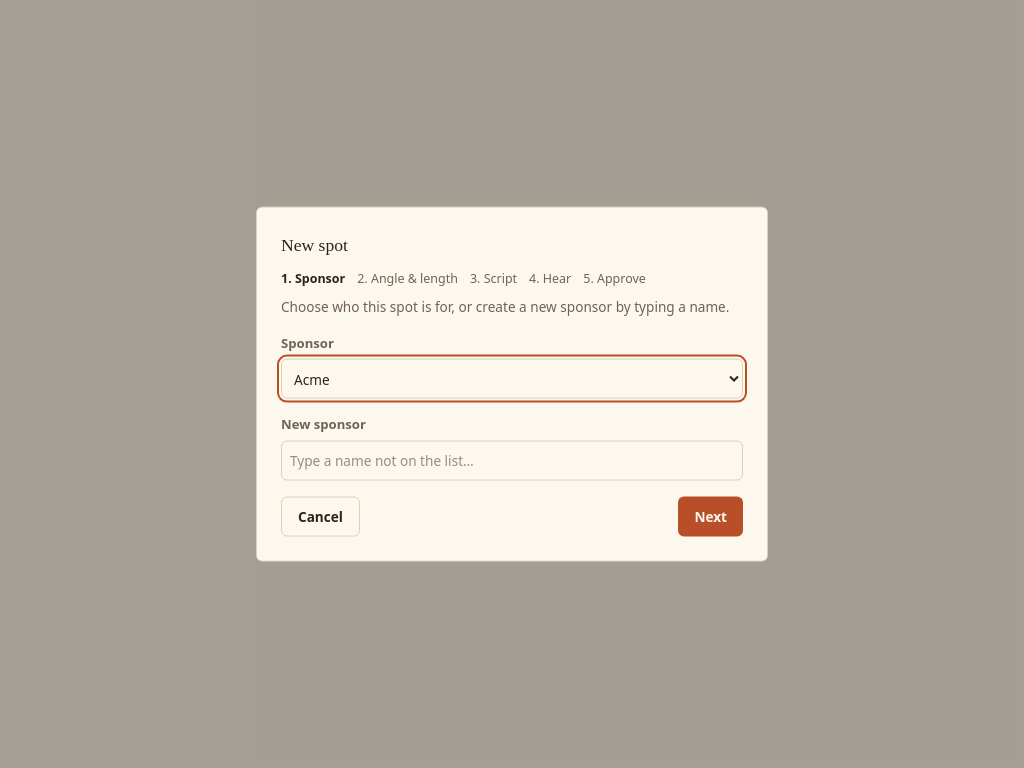
Test: Feature: New spot is a five-step wizard › Scenario: every step names its purpose in a sentence › each step carries exactly one purpose sentence — AC2
Expected: the text "Choose who this spot is for, or create a new sponsor by typing a name." is shown, [281,297,743,317]
Expected: the list item "1. Sponsor" is shown, [281,270,345,289]
Click the button "Next" at (711, 516), box [678,496,743,536]
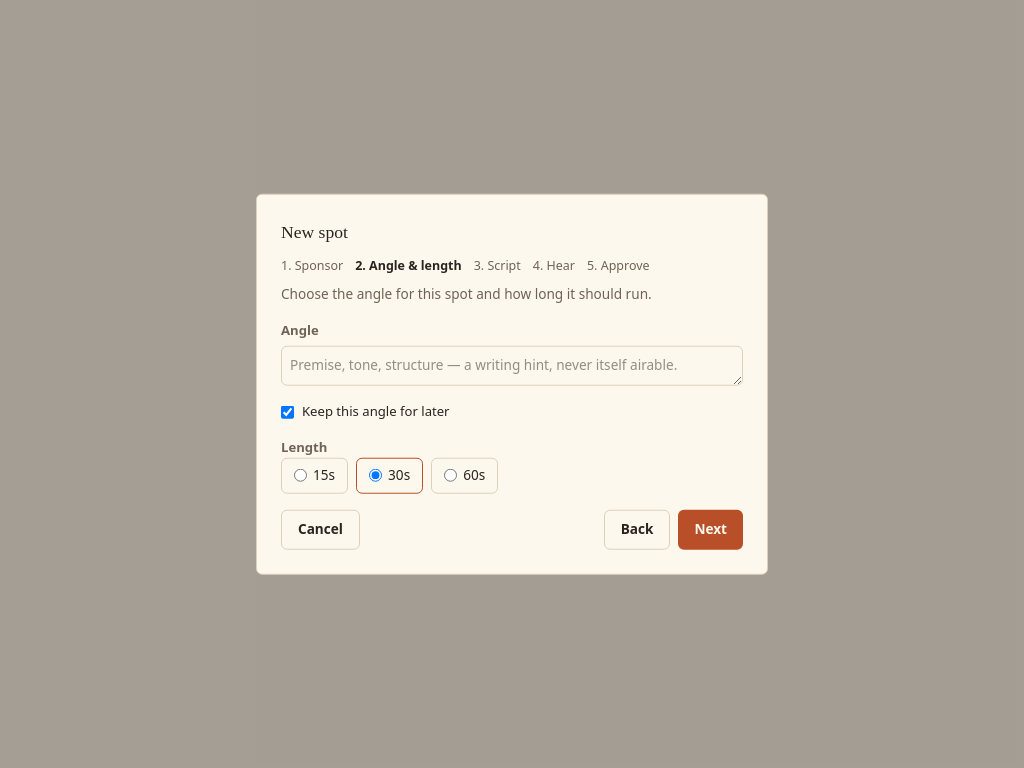
Expected: the list item "2. Angle & length" is shown, [355,257,462,276]
Result: the text "Choose the angle for this spot and how long it should run." is shown at [281,284,652,303]
Replace the text in the text box labelled "Angle" with "A walkthrough angle." at (512, 366), box [281,346,743,386]
Click the checkbox labelled "Keep this angle for later" at (288, 412), box [281,405,294,418]
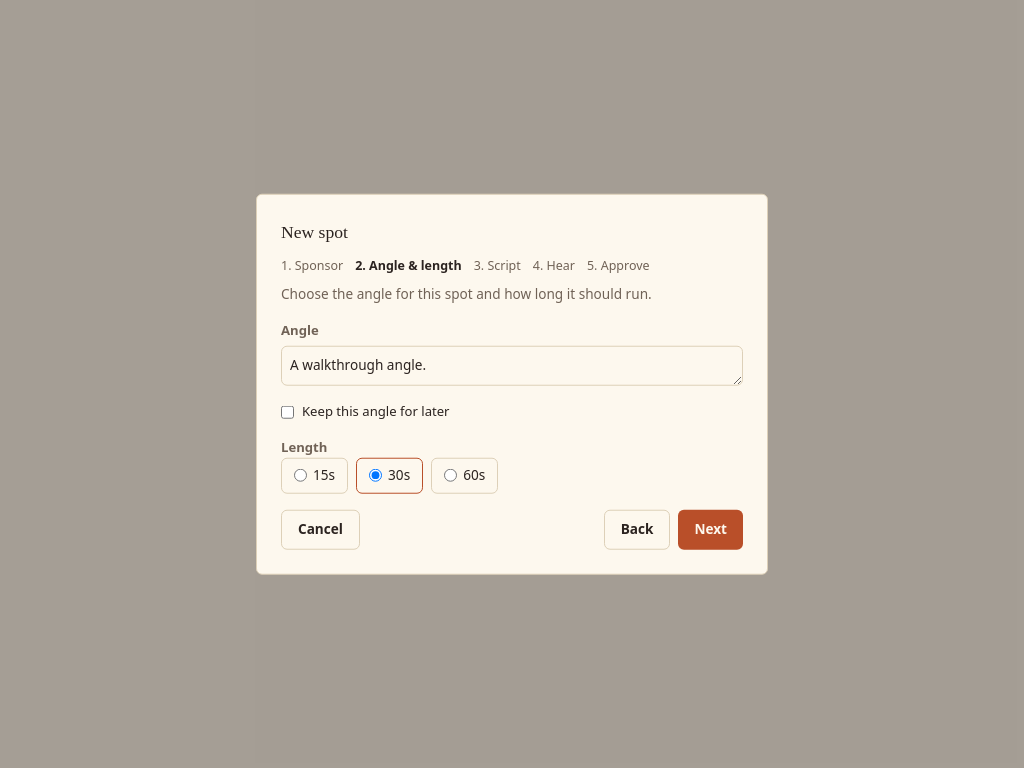
Click the button "Next" at (711, 529), box [678,509,743,549]
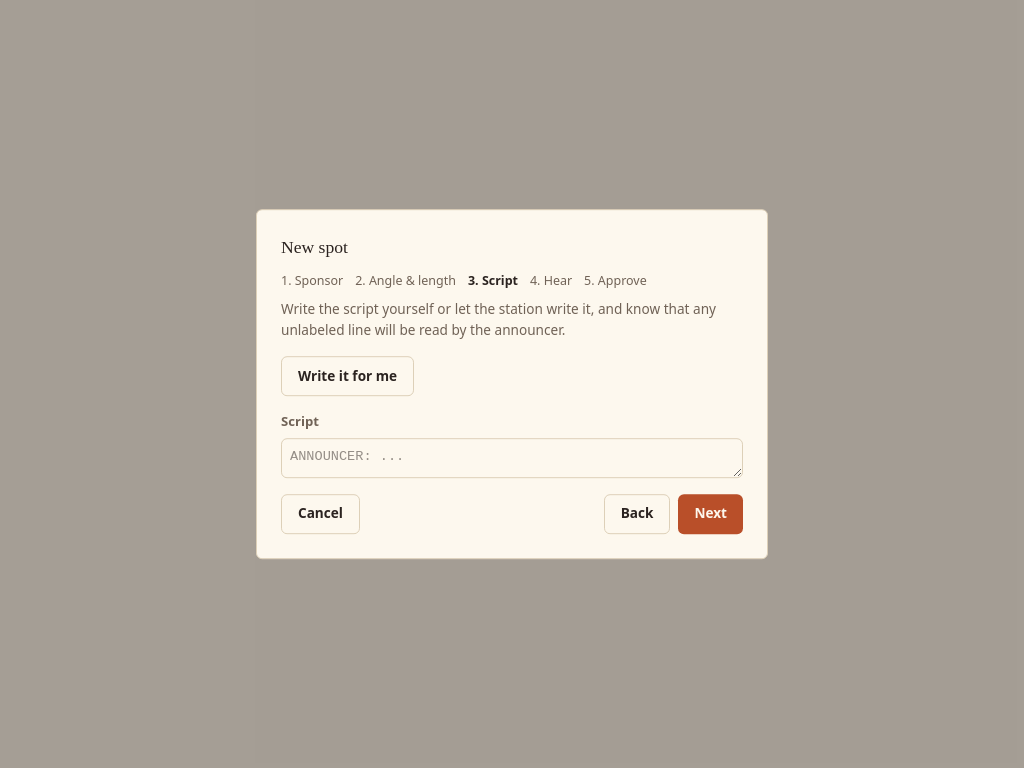
Expected: the list item "3. Script" is shown, [468,273,518,291]
Result: the text "Write the script yourself or let the station write it, and know that any unlabeled line will be read by the announcer." is shown at [281,299,716,339]
Type "ANNOUNCER: Walk." into the text box labelled "Script" at (512, 458), box [281,438,743,478]
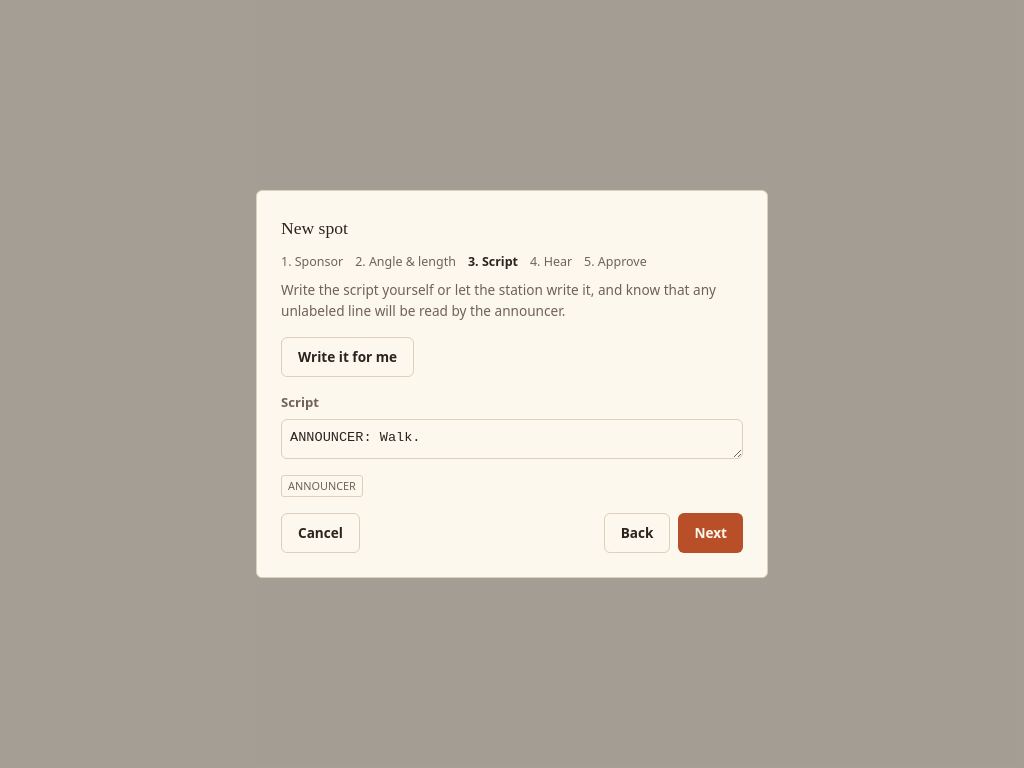
Click the button "Next" at (711, 533), box [678,513,743,553]
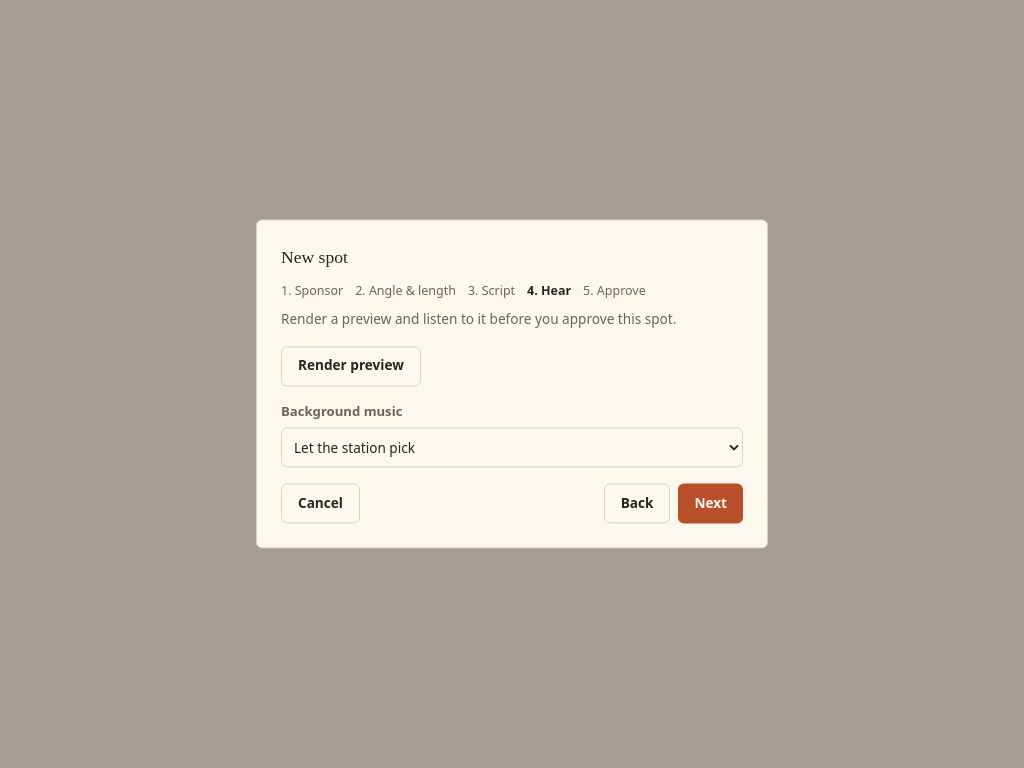
Expected: the list item "4. Hear" is shown, [527,283,571,302]
Result: the text "Render a preview and listen to it before you approve this spot." is shown at [281,310,743,330]
Click the button "Next" at (711, 504), box [678,484,743,524]
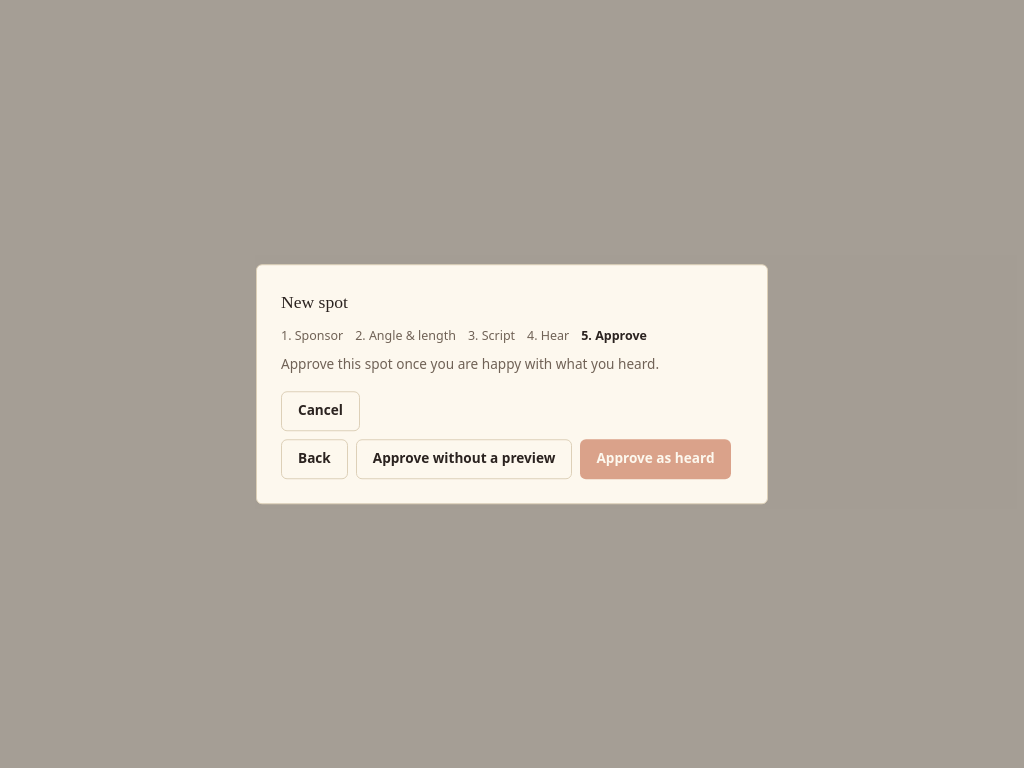
Expected: the list item "5. Approve" is shown, [581,328,647,346]
Result: the text "Approve this spot once you are happy with what you heard." is shown at [281,354,659,373]
